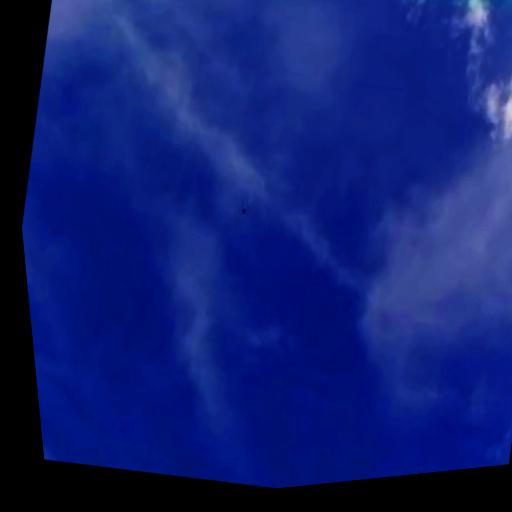drones: (231, 196, 257, 226)
